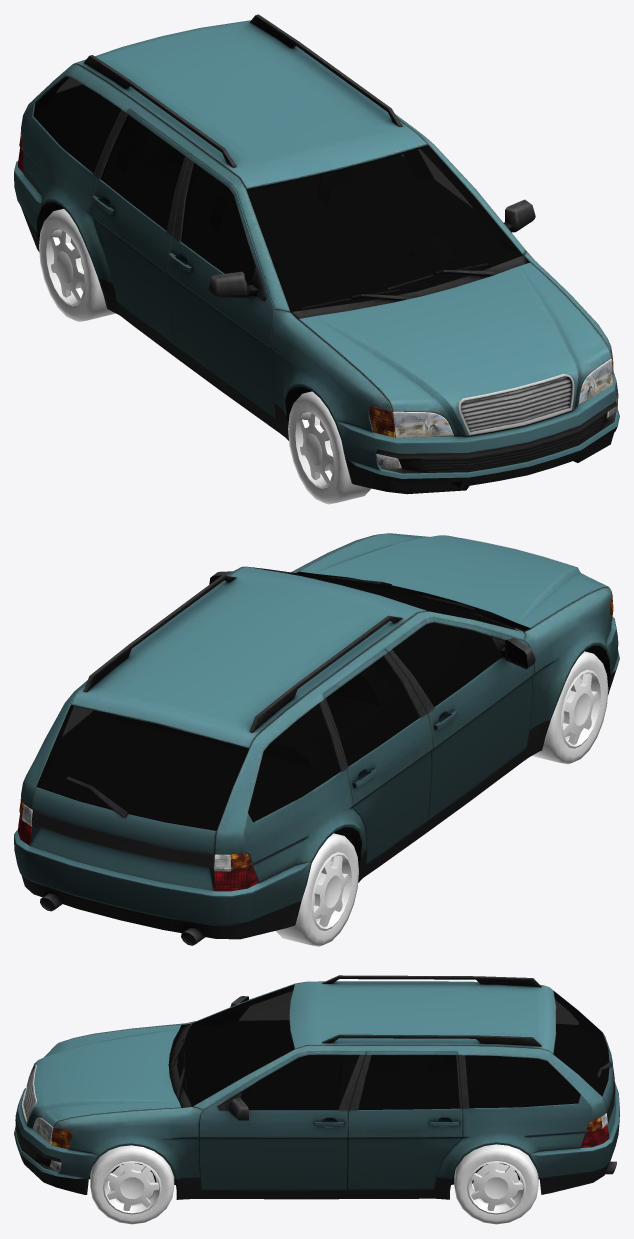
Rendered from car_wagon.glb.
3 renders of one model, top to bottom at view 1: azimuth 30°, elevation 25°; view 2: azimuth 150°, elevation 25°; view 3: azimuth 270°, elevation 25°, orthographic. The views are drawn at different scales.
Visible parts, largest first — view 1: Wagon Body_Body_0, Wagon Body_Glass_0, Wheel_A002_Wheel_0.001, Wheel_A003_Wheel_0.001, Wagon Body_Optics_0; view 2: Wagon Body_Body_0, Wagon Body_Glass_0, Wheel_A003_Wheel_0.001, Wheel_A002_Wheel_0.001, Wagon Body_Optics_0; view 3: Wagon Body_Body_0, Wagon Body_Glass_0, Wheel_A001_Wheel_0.001, Wheel_A_Wheel_0.001, Wagon Body_Optics_0.
Boxes of the visible parts, box(x1,y1,x2,y2) form: Wagon Body_Body_0: box(14, 14, 619, 494); Wagon Body_Glass_0: box(33, 76, 522, 311); Wheel_A002_Wheel_0.001: box(288, 391, 371, 504); Wheel_A003_Wheel_0.001: box(39, 208, 115, 321); Wagon Body_Optics_0: box(18, 132, 617, 468); Wagon Body_Body_0: box(14, 533, 619, 945); Wagon Body_Glass_0: box(36, 566, 522, 830); Wheel_A003_Wheel_0.001: box(276, 833, 358, 946); Wheel_A002_Wheel_0.001: box(532, 651, 608, 764); Wagon Body_Optics_0: box(18, 593, 613, 891); Wagon Body_Body_0: box(14, 975, 619, 1199); Wagon Body_Glass_0: box(177, 984, 609, 1110); Wheel_A001_Wheel_0.001: box(454, 1144, 538, 1224); Wheel_A_Wheel_0.001: box(90, 1145, 174, 1224); Wagon Body_Optics_0: box(32, 1113, 609, 1171).
Size of the model in its own units: 2.14 by 1.51 by 4.8.
4 materials, 2 textured.
